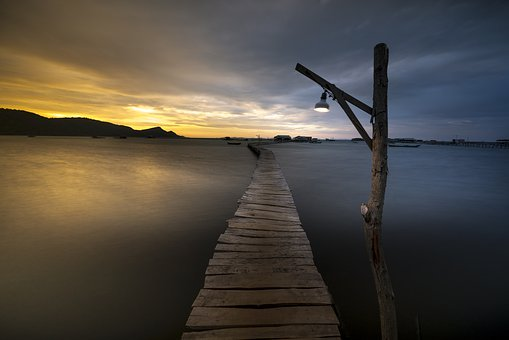sea: (14, 131, 508, 340)
sky: (11, 1, 501, 134)
